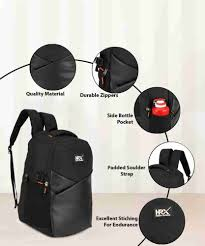backpack: (7, 108, 93, 237)
